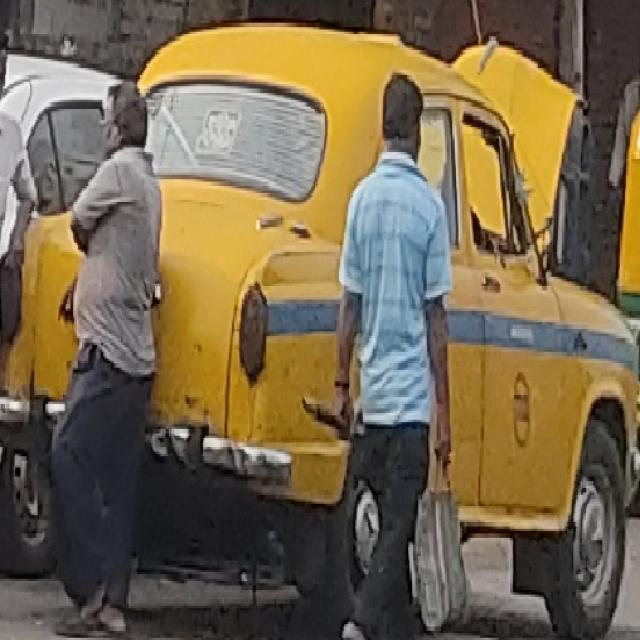ambasador_taxi: (13, 33, 640, 640)
